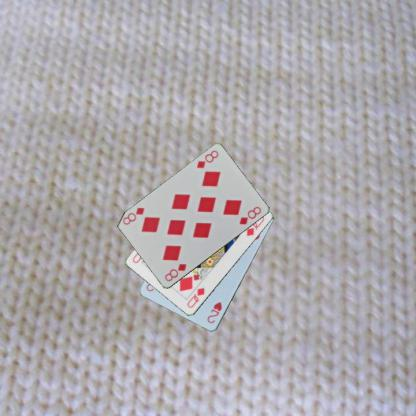2h: (205, 299, 223, 325)
8d: (193, 148, 220, 170), (162, 261, 188, 283)
Qd: (184, 285, 206, 310)
